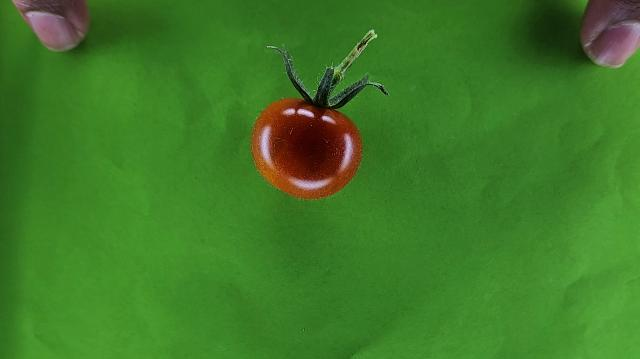Fully Grown: (250, 97, 364, 200)
